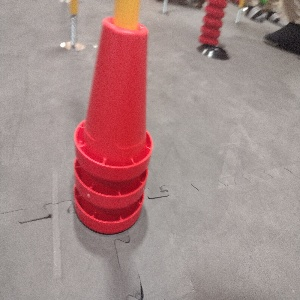Red_3: (72, 13, 152, 235)
Red_5: (198, 0, 227, 46)
